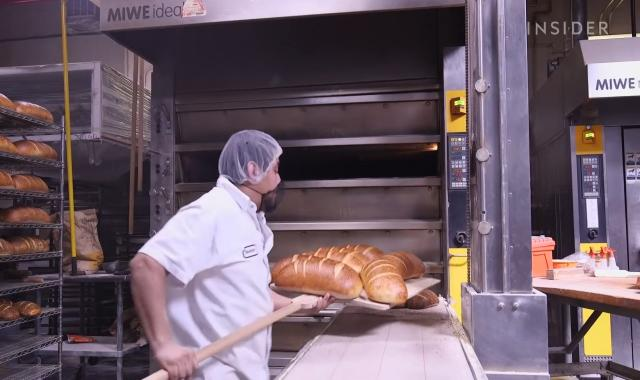hairnet: (218, 130, 284, 183)
